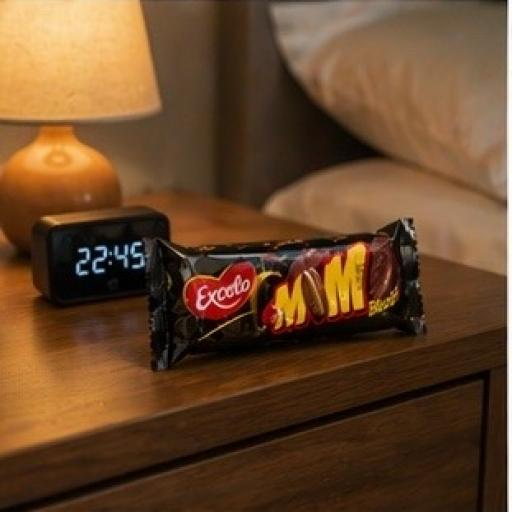MOMO: (114, 200, 450, 404)
